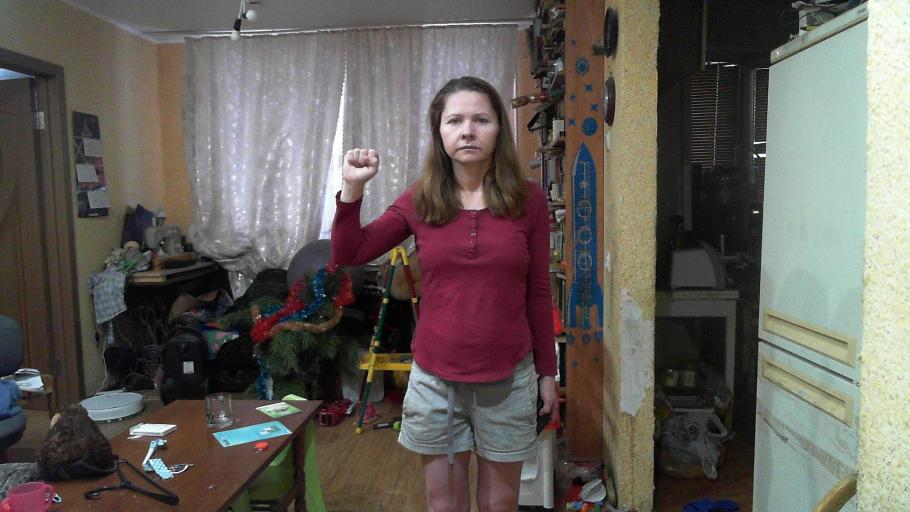fist: (341, 146, 380, 185)
no_gesture: (537, 375, 562, 428)
